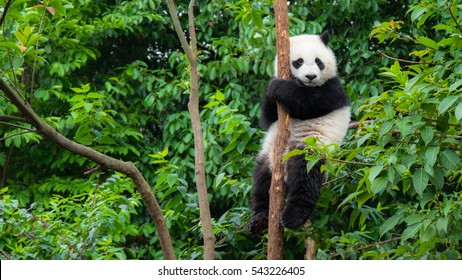panda: (215, 19, 352, 235)
